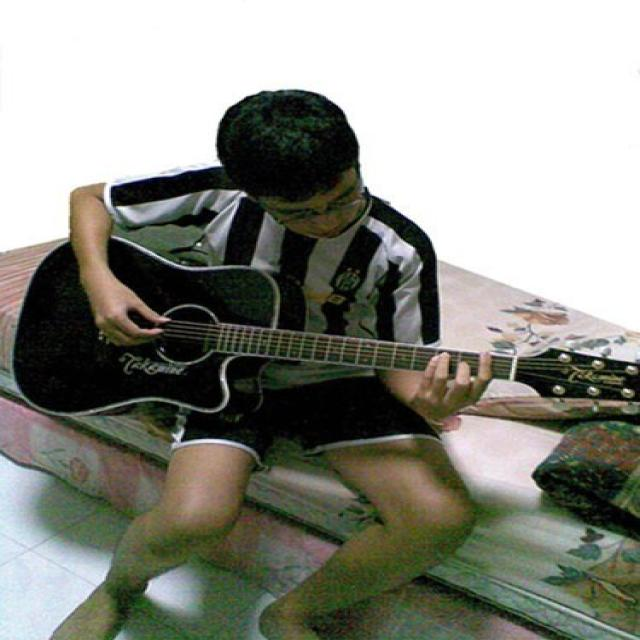guitar: (13, 230, 640, 418)
